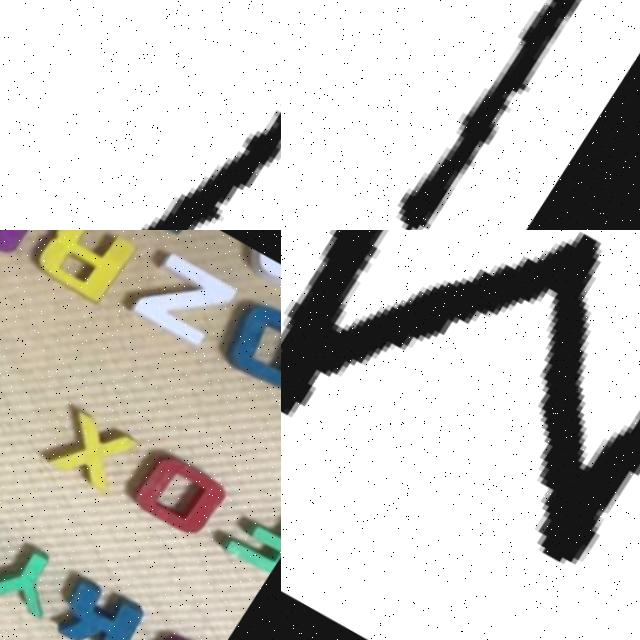D: (204, 287, 281, 404)
F: (227, 494, 281, 577)
I: (137, 104, 281, 230)
K: (54, 574, 162, 640)
M: (281, 230, 640, 613)
O: (128, 448, 240, 544)
R: (22, 230, 146, 312)
U: (281, 0, 640, 230)
X: (46, 407, 149, 498)
Y: (0, 536, 76, 617)
Z: (126, 248, 241, 349)
